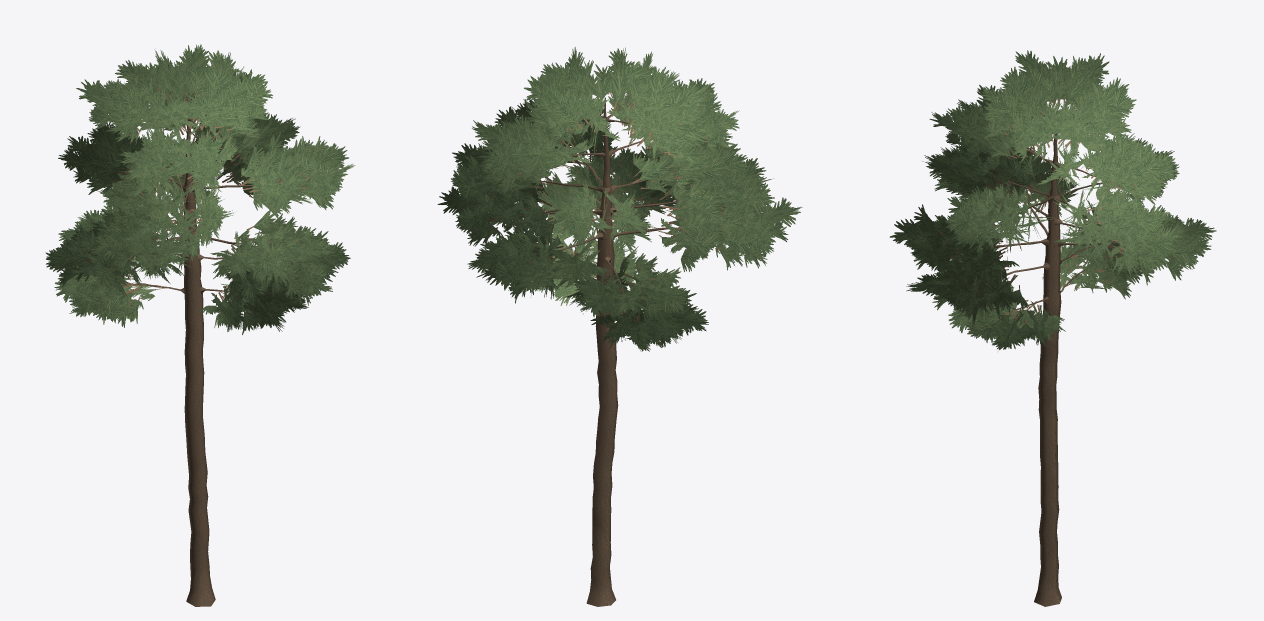
File: Forest_Pine_Reduced.fbx
3 renders of one model, left to right at view 1: azimuth 30°, elevation 25°; view 2: azimuth 150°, elevation 25°; view 3: azimuth 270°, elevation 25°, orthographic. The views are drawn at different scales.
Parts seen in each view (by area): view 1: Forest_Pine_Reduced; view 2: Forest_Pine_Reduced; view 3: Forest_Pine_Reduced.
Boxes of the visible parts, left/top/right/bottom form: Forest_Pine_Reduced: left=45, top=44, right=355, bottom=606; Forest_Pine_Reduced: left=437, top=47, right=802, bottom=606; Forest_Pine_Reduced: left=889, top=50, right=1216, bottom=606.
Size of the model in its own units: 1244 by 1963 by 1272.
